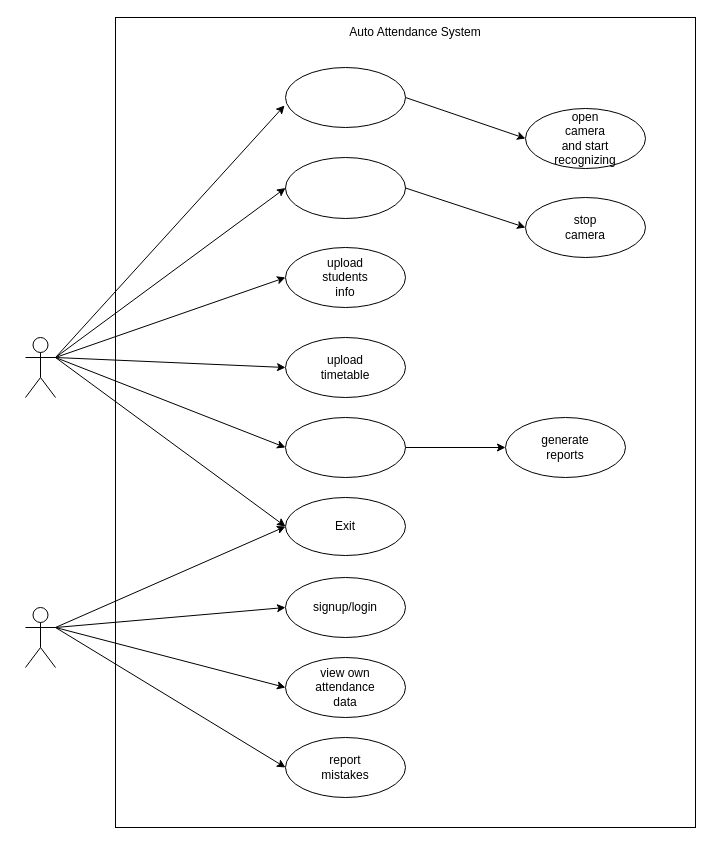
Image size: 713x845. Some labels were removed from this diagram. The centre of each missing label's shape, as x and y in pixels:
Authority: point 40,367
Start taking attendance: point 345,97
Stop taking attendance: point 345,187
Student: point 40,637
view reports: point 345,447
